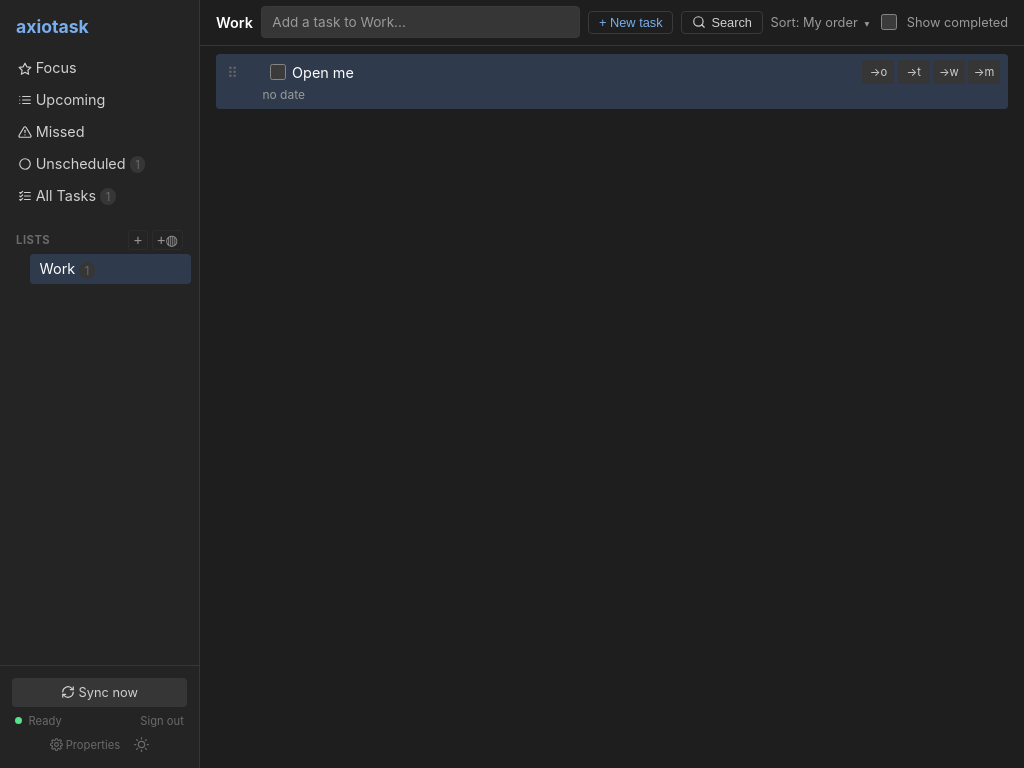
Test: #172: error toast is reachable while the detail panel is open › shows the error toast alert AND keeps the detail panel open
# Open the detail panel for the task.
Click the text "Open me": x=323, y=72 x1=292 y1=64 x2=354 y2=81
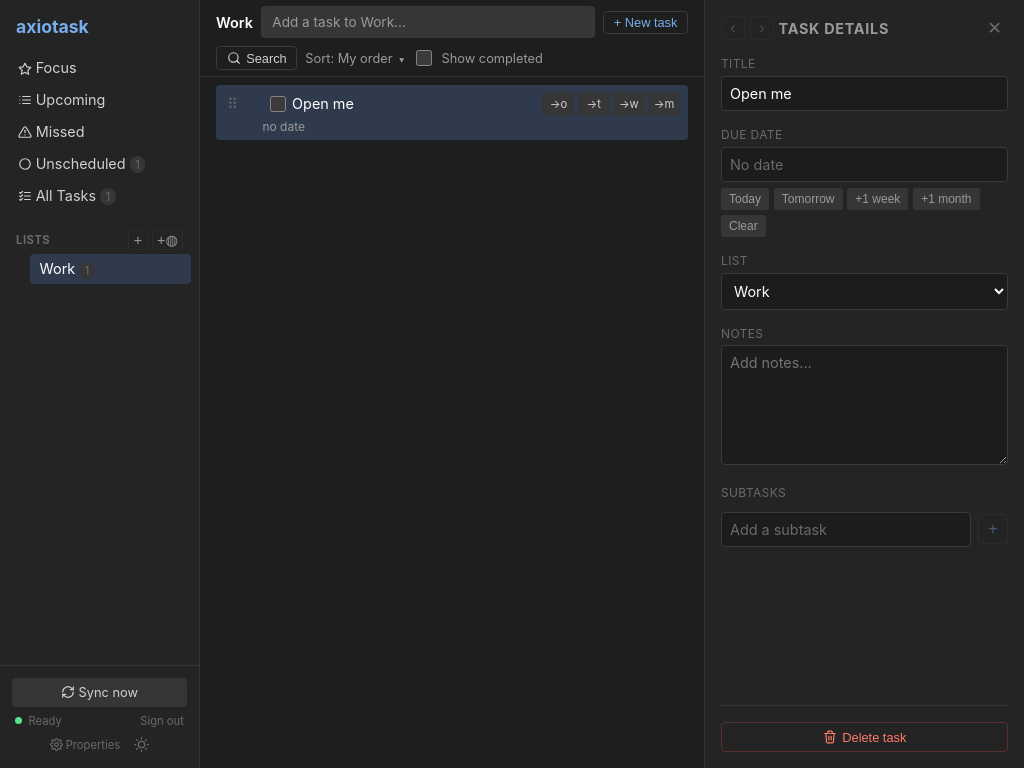
expect the element with class "detail-panel" is shown: met, box x1=704 y1=0 x2=1023 y2=767
Replace the text in the field showing "Open me" with "Renamed": x=864, y=93 x1=721 y1=76 x2=1008 y2=111
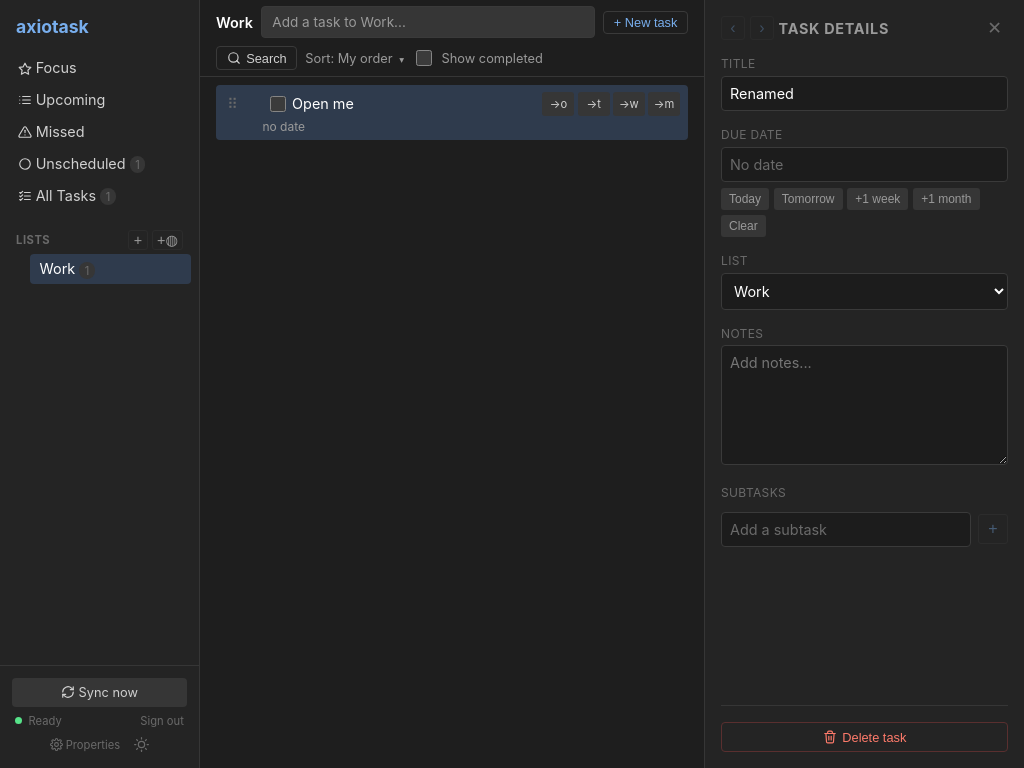
Leave the field showing "Open me", box x1=721 y1=76 x2=1008 y2=111
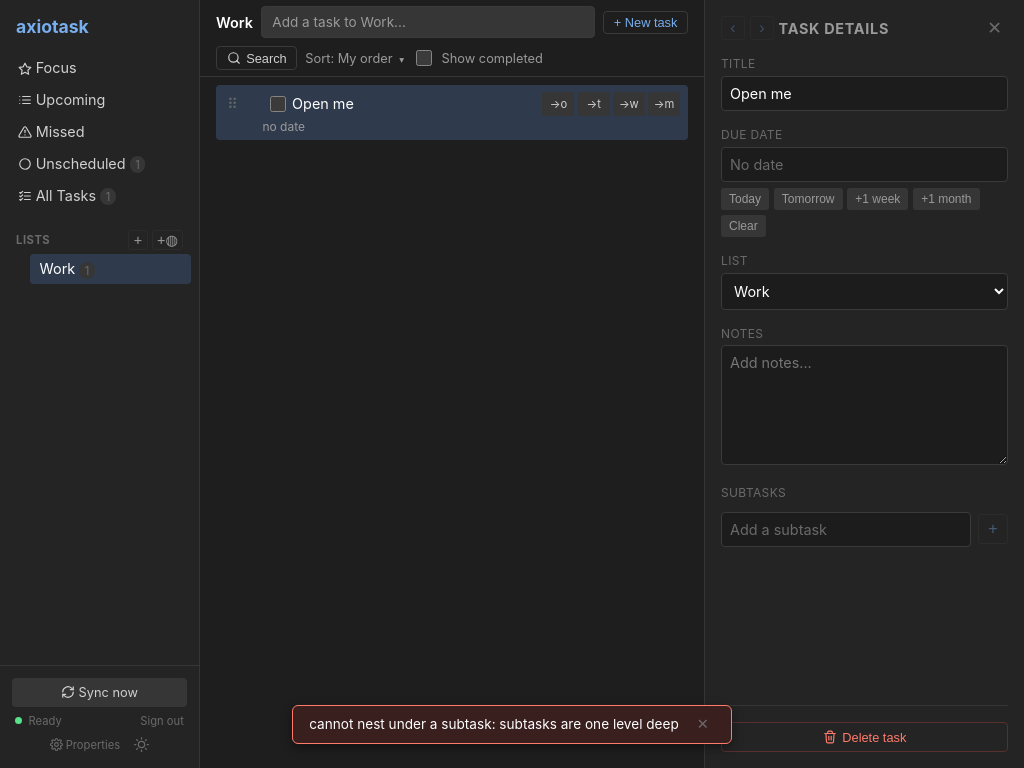
expect the element with class "detail-panel" is shown: met, box x1=704 y1=0 x2=1023 y2=767
expect the message shows "cannot nest under a subtask": met, box x1=309 y1=716 x2=679 y2=732
